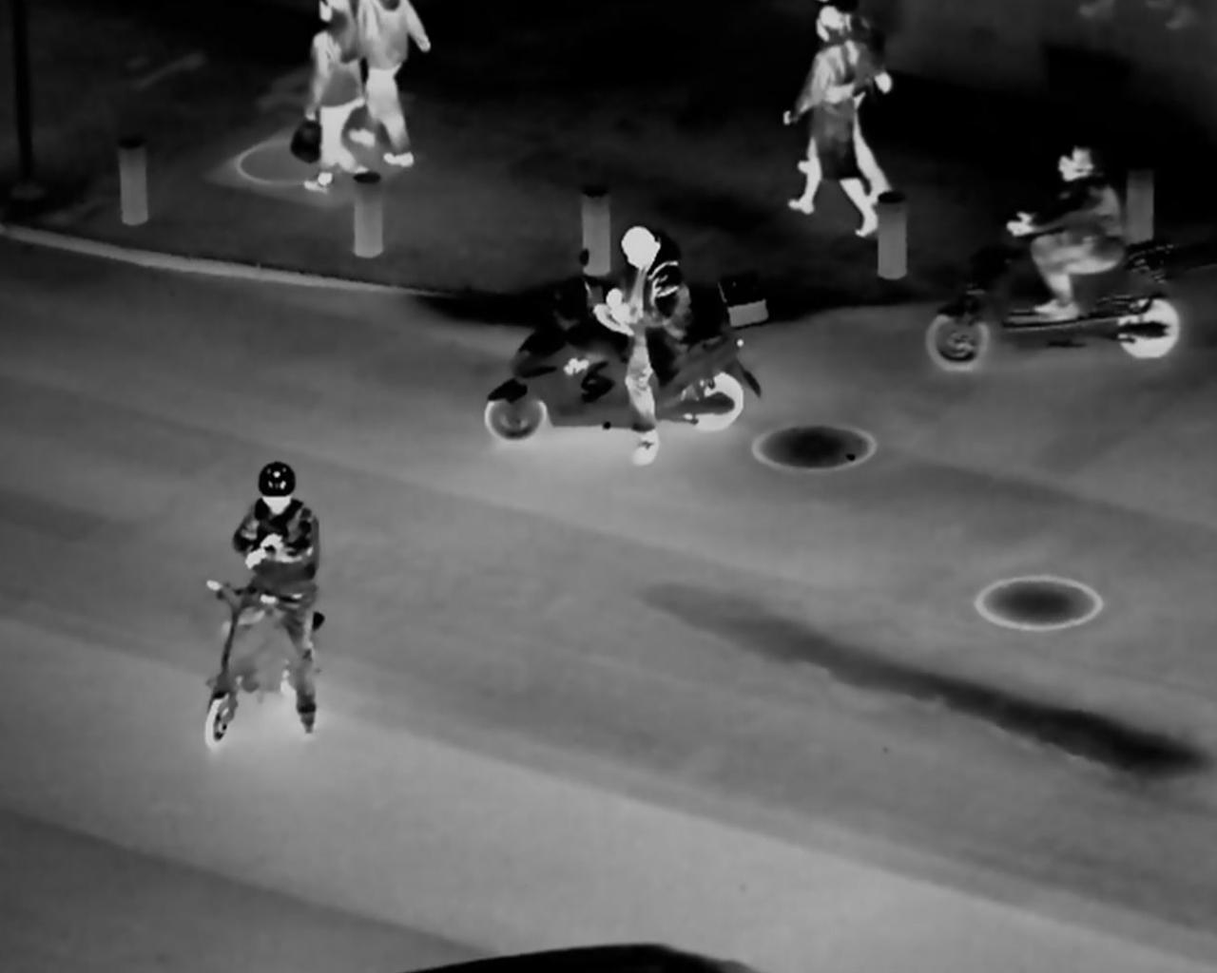person: (206, 450, 344, 738), (1006, 125, 1128, 330), (596, 219, 692, 469), (787, 10, 885, 248), (299, 4, 367, 192)
